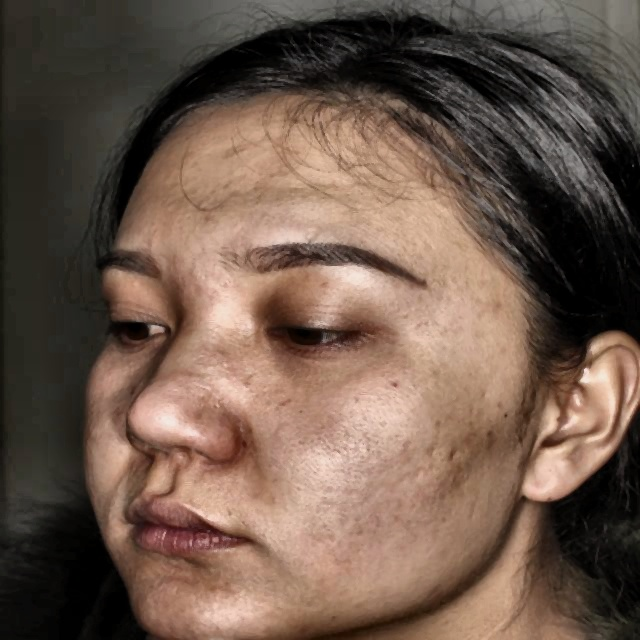comedone: (477, 424, 499, 441)
